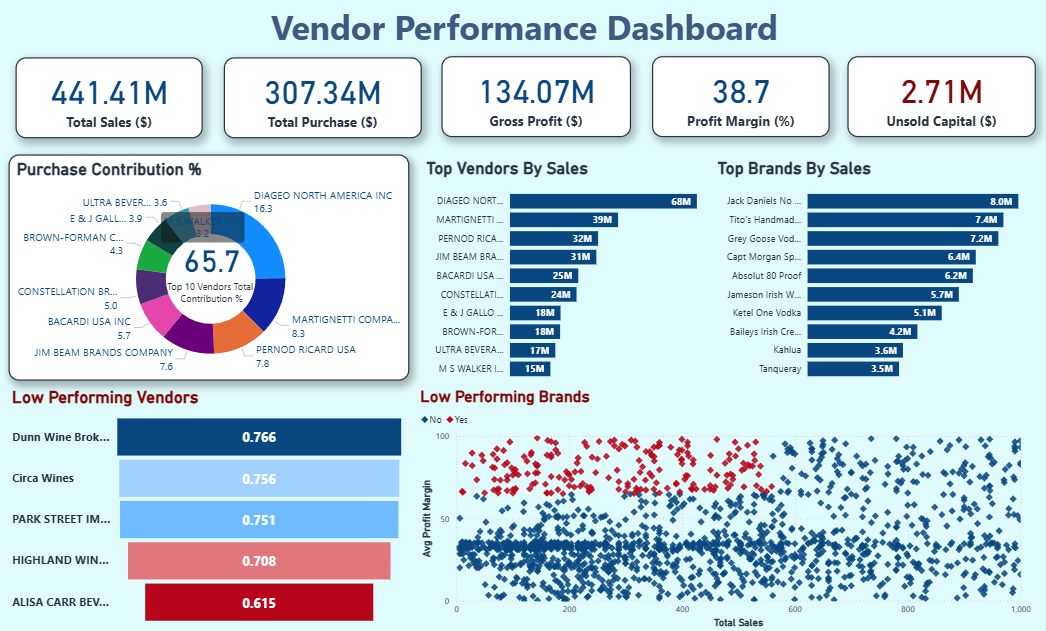

The dashboard page shown, as its layout file describes it:
{"tool":"powerbi","page":{"name":"Page 1","canvas":[1500,900],"ordinal":0},"visuals":[{"type":"card","fields":{"Values":["Sum(vendor_sales_summary.TotalPurchaseDollars)"]},"box":[321.7,81.7,281.7,115],"z":0},{"type":"card","fields":{"Values":["Sum(vendor_sales_summary.TotalSalesDollars)"]},"box":[25,81.7,266.6,115],"z":1000},{"type":"card","fields":{"Values":["Sum(vendor_sales_summary.GrossProfit)"]},"box":[631.7,80,270,115],"z":2000},{"type":"card","fields":{"Values":["Avg(vendor_sales_summary.ProfitMargin)"]},"box":[931.7,80,253.3,115],"z":3000},{"type":"card","fields":{"Values":["Sum(vendor_sales_summary.UnsoldCapital)"]},"box":[1210,80,268.3,115],"z":4000},{"type":"textbox","box":[0,0,1500,83],"z":5000},{"type":"donutChart","title":"Purchase Contribution % ","fields":{"Category":["PurchaseContribution.VendorName"],"Y":["Sum(PurchaseContribution.PurchaseContribution%)"]},"box":[14.5,219.4,571,322.6],"z":6000},{"type":"card","fields":{"Values":["Sum(PurchaseContribution.PurchaseContribution%)"]},"box":[210,258.3,188.3,235],"z":7000},{"type":"barChart","title":"Top Vendors By Sales","fields":{"Category":["vendor_sales_summary.VendorName"],"Y":["Sum(vendor_sales_summary.TotalSalesDollars)"]},"box":[600,220,448.3,331.7],"z":8000},{"type":"barChart","title":"Top Brands By Sales","fields":{"Category":["vendor_sales_summary.Description"],"Y":["Sum(vendor_sales_summary.TotalSalesDollars)"]},"box":[1015,220,480,331.7],"z":9000},{"type":"funnel","title":"Low Performing Vendors","fields":{"Category":["LowTurnoverVendor.VendorName"],"Y":["Avg(LowTurnoverVendor.AvgStockTurnOver)"]},"box":[15.5,551.1,569.2,349.3],"z":10000},{"type":"scatterChart","title":"Low Performing Brands","fields":{"X":["Sum(BrandPerformance.TotalSales)"],"Y":["Sum(BrandPerformance.AvgProfitMargin)"],"Series":["BrandPerformance.TargetBrand"],"Category":["BrandPerformance.Description"]},"box":[596.7,551.7,880,348.3],"z":11000}]}

Visuals, with their boxes in screenshot pixels (x1, y1, x2, y2), scaled from the page's 1500x900 canvas onto the 1046x631 screenshot:
card - Sum(vendor_sales_summary.TotalPurchaseDollars): [224, 57, 421, 138]
card - Sum(vendor_sales_summary.TotalSalesDollars): [17, 57, 203, 138]
card - Sum(vendor_sales_summary.GrossProfit): [441, 56, 629, 137]
card - Avg(vendor_sales_summary.ProfitMargin): [650, 56, 826, 137]
card - Sum(vendor_sales_summary.UnsoldCapital): [844, 56, 1031, 137]
textbox: [0, 0, 1045, 58]
"Purchase Contribution % " donutChart: [10, 154, 408, 380]
card - Sum(PurchaseContribution.PurchaseContribution%): [146, 181, 278, 346]
"Top Vendors By Sales" barChart: [418, 154, 731, 387]
"Top Brands By Sales" barChart: [708, 154, 1043, 387]
"Low Performing Vendors" funnel: [11, 386, 408, 630]
"Low Performing Brands" scatterChart: [416, 387, 1030, 630]
